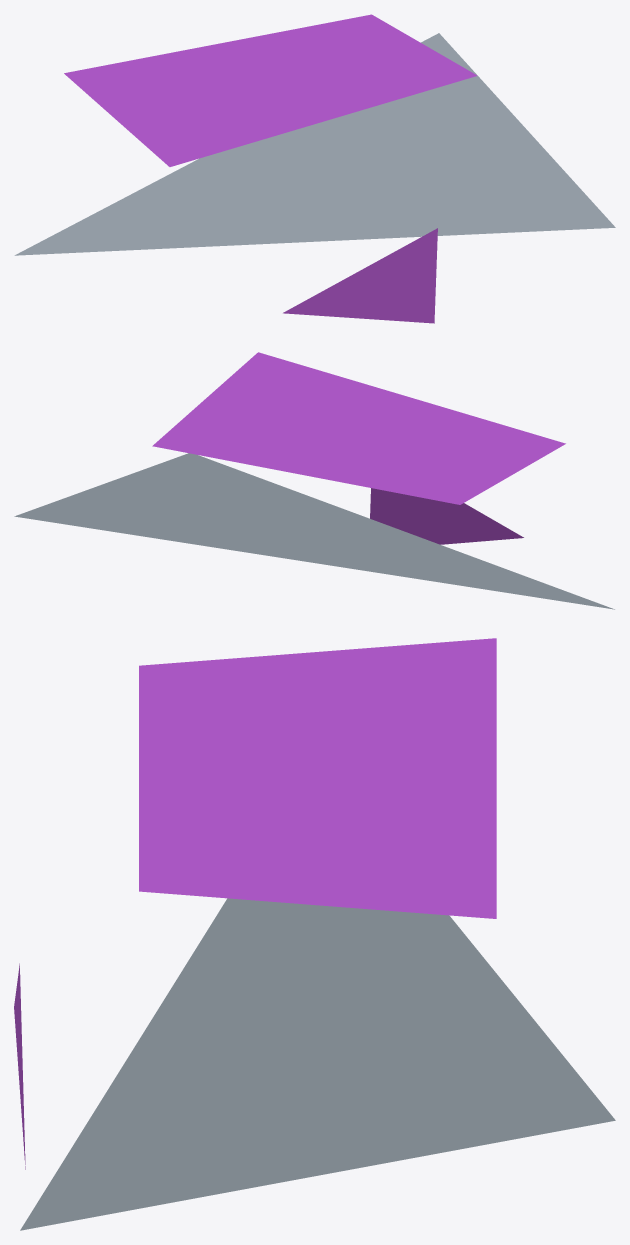
Rendered from CH_ProbabilistHarvester_LOD2.glb.
The picture shows the model from 3 angles, top to bottom: view 1: azimuth 30°, elevation 25°; view 2: azimuth 150°, elevation 25°; view 3: azimuth 270°, elevation 25°; orthographic projection. The views are drawn at different scales.
Visible parts, largest first — view 1: EntranceGate; view 2: EntranceGate; view 3: EntranceGate.
Part boxes in pixels (x1,y1,x2,y2): EntranceGate: (14,14,615,323); EntranceGate: (14,352,614,609); EntranceGate: (14,638,615,1230).
Bounding box in the file's own units: 570 × 217 × 343.
